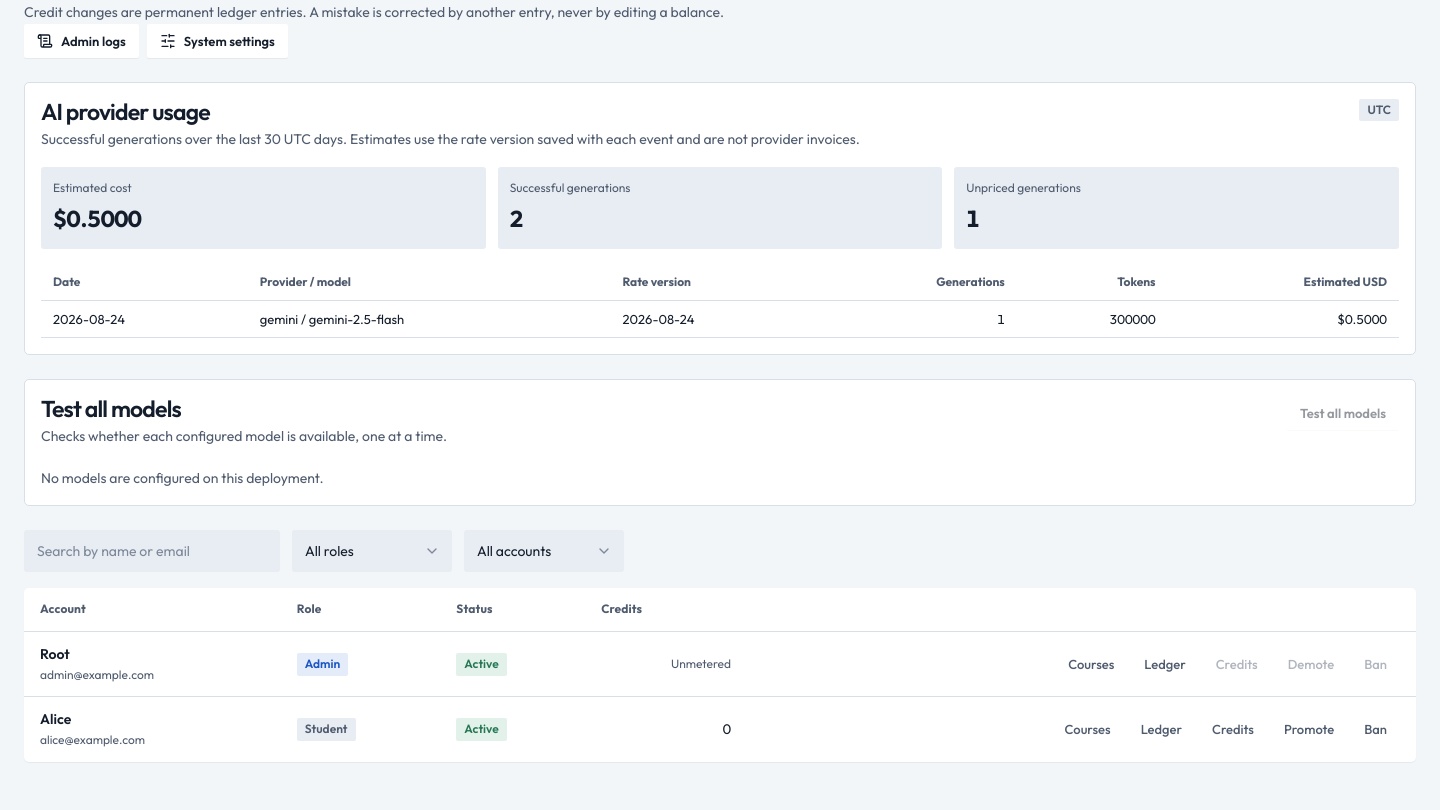
Test: AdminPage credit administration › keeps the dialog open and explains a rejection from the server
(page scrolled)
Click the button "Credits" in the row of "alice@example.com".
click(1233, 730)  # box [1199,712,1267,746]
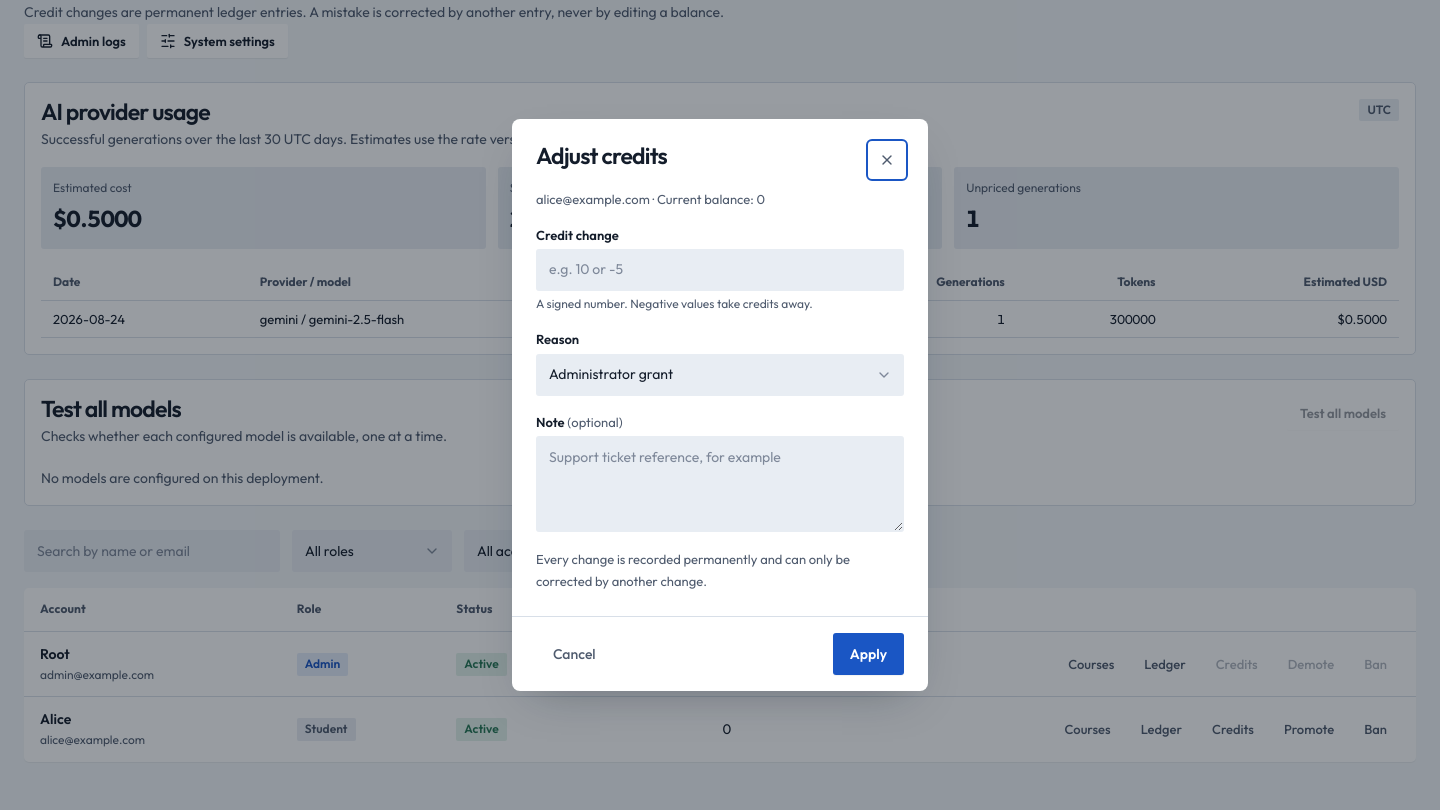
Type "-5" into the field labelled "Credit change".
click(720, 270); type("-5")  # box [536,249,904,291]
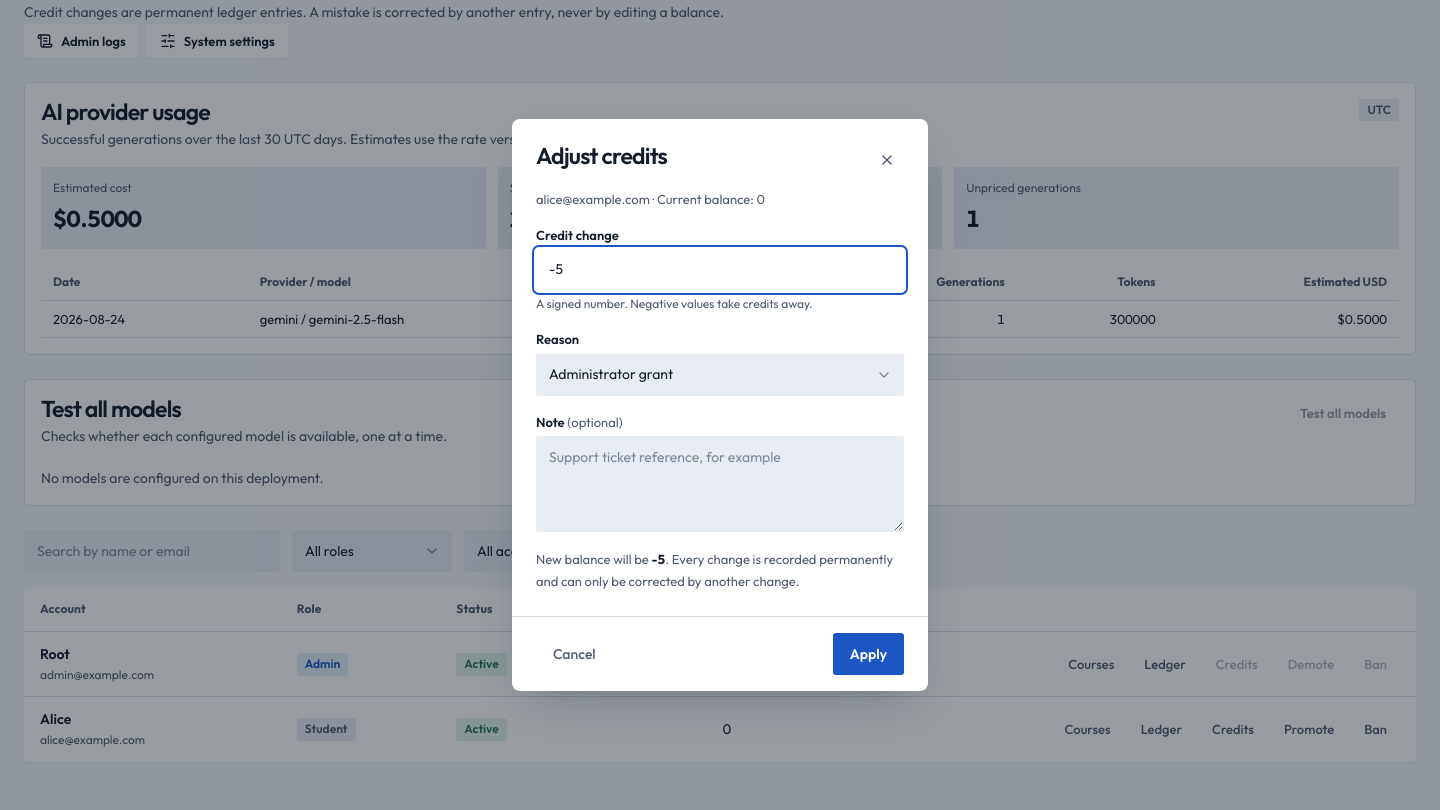
Select "Administrator adjustment" in the dropdown labelled "Reason" at [720, 375], box [536,354,904,396]
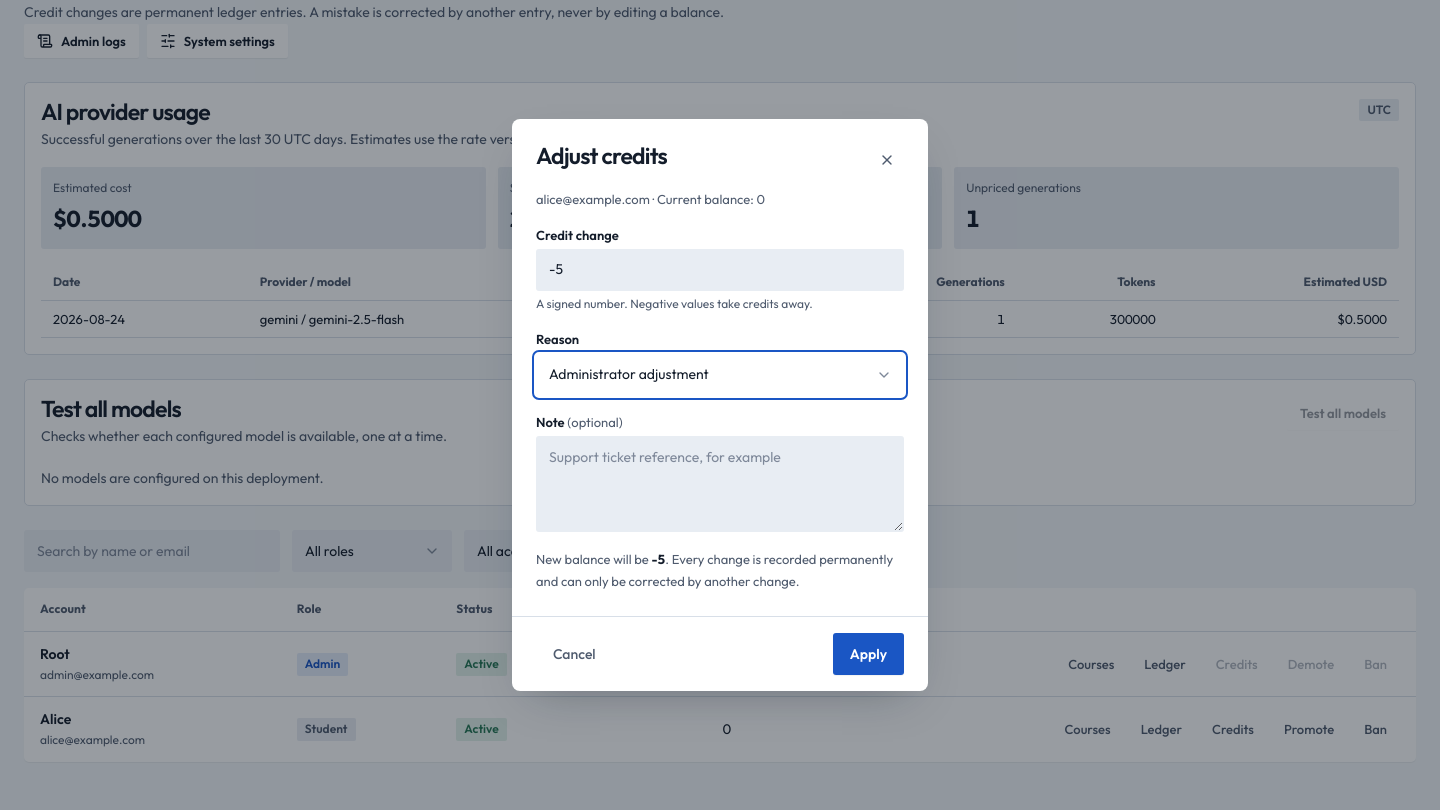
Click the button "Apply".
click(868, 654)  # box [833,633,904,675]
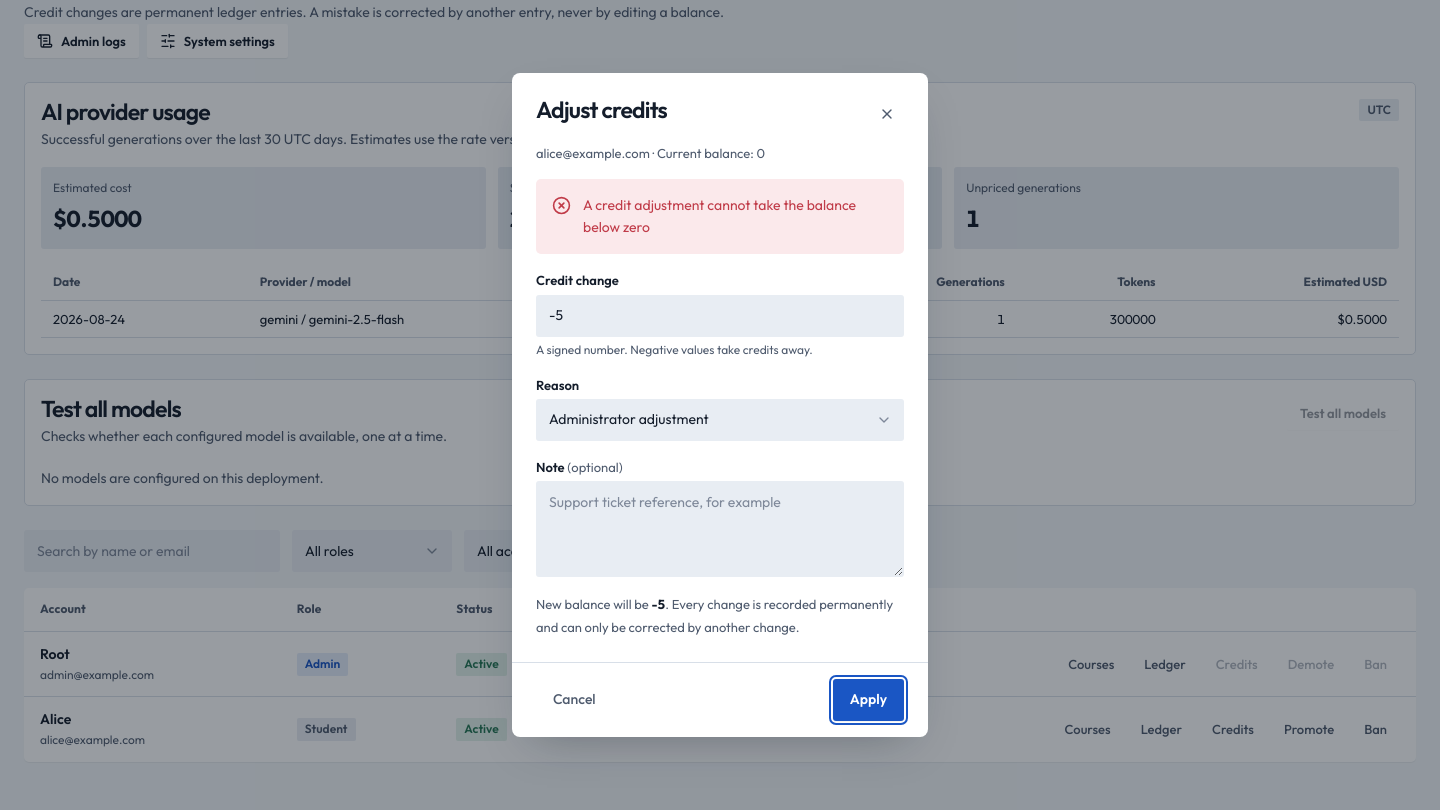
Now the dialog is shown, box [512,73,928,737]
Now the message shows "below zero", box [583,196,856,236]
